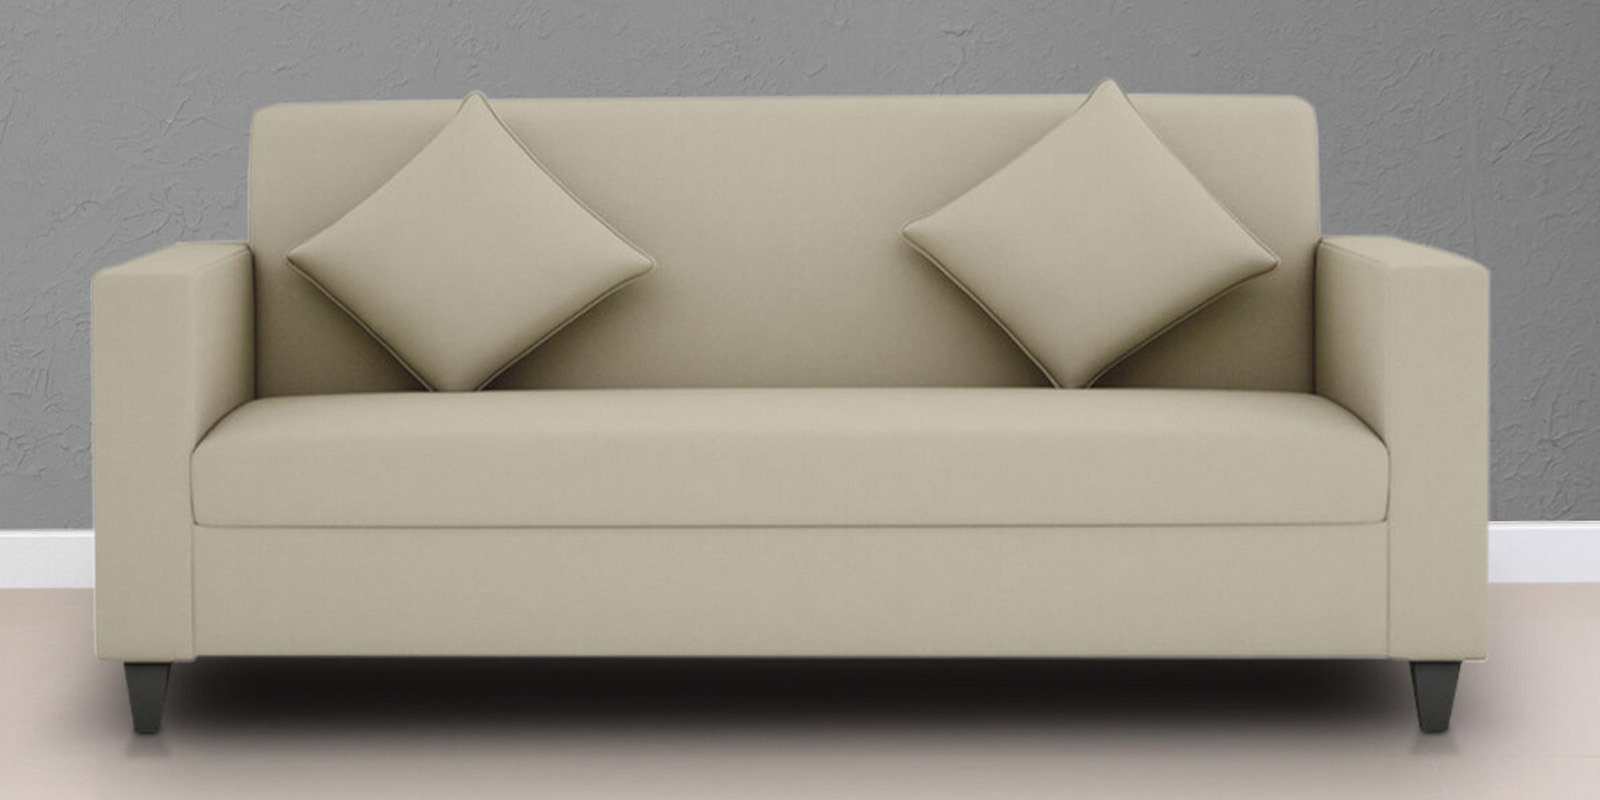Cooper Three Seater Sofa in Beige Colour by ARRA: (68, 91, 1494, 755)
